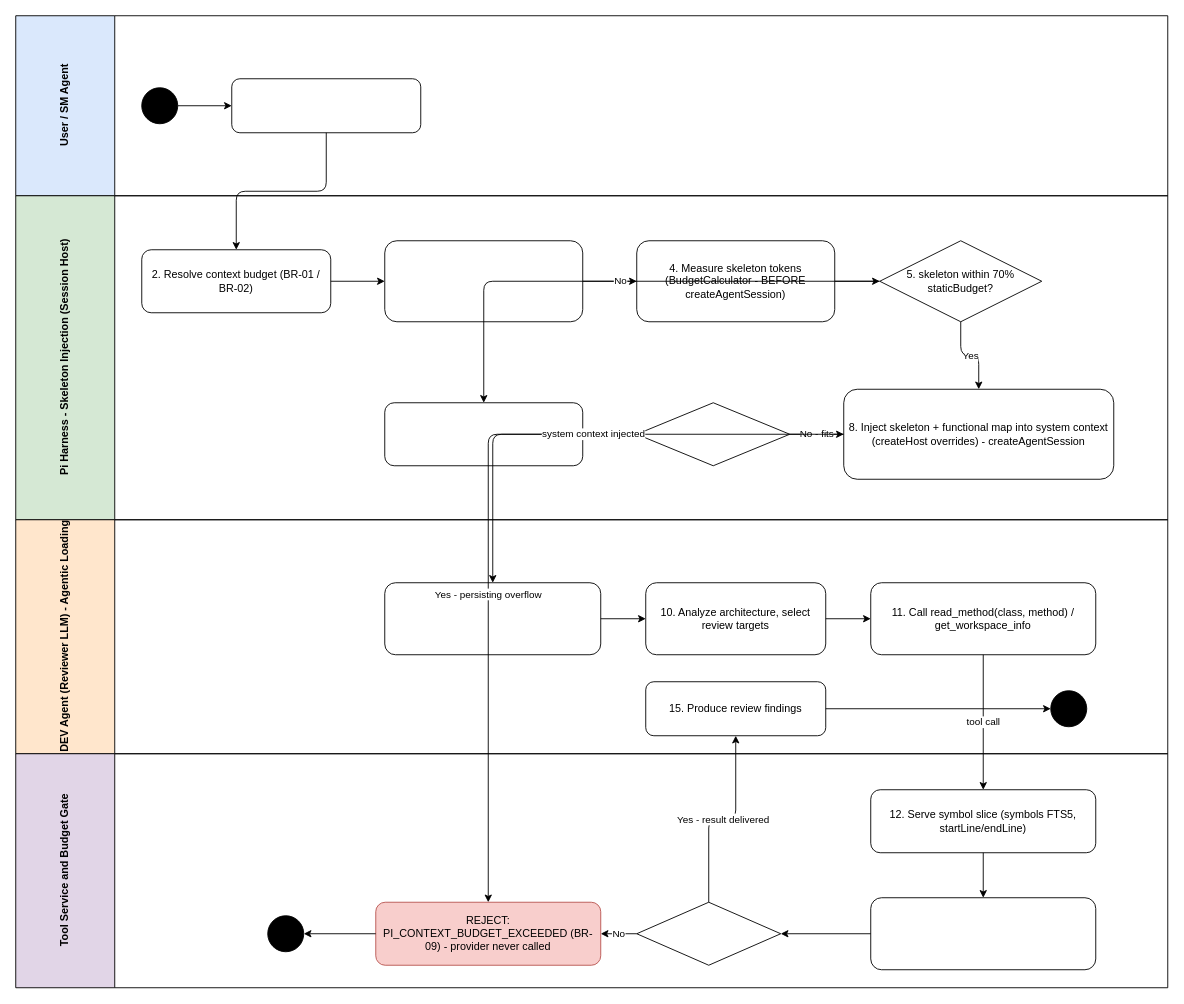
Some shapes in this 1184 by 1004 pixel diagram are drawn without their labels. Each missing label, with the centre of its shape:
1. Send review request (turn): (326,105)
13. Intra-turn gate #3 (streamFn): measure - compact transcript: (983,933)
14. Fits now?: (708,933)
3. Generate workspace skeleton (SymbolOutlineExtractor / regex fallback): (483,281)
6. Truncate skeleton by module priority (ModuleSummarizer): (483,434)
7. Still over budget?: (713,434)
9. Receive skeleton + functional map as system context: (492,618)
